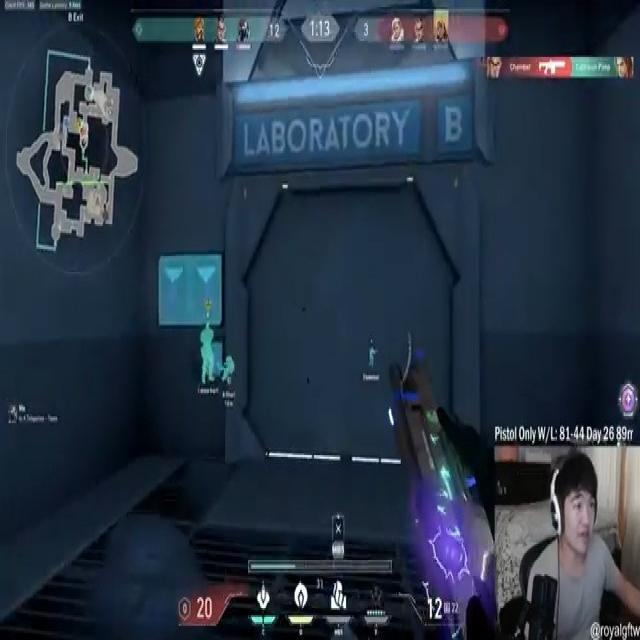ally behind wall: (196, 319, 221, 394)
